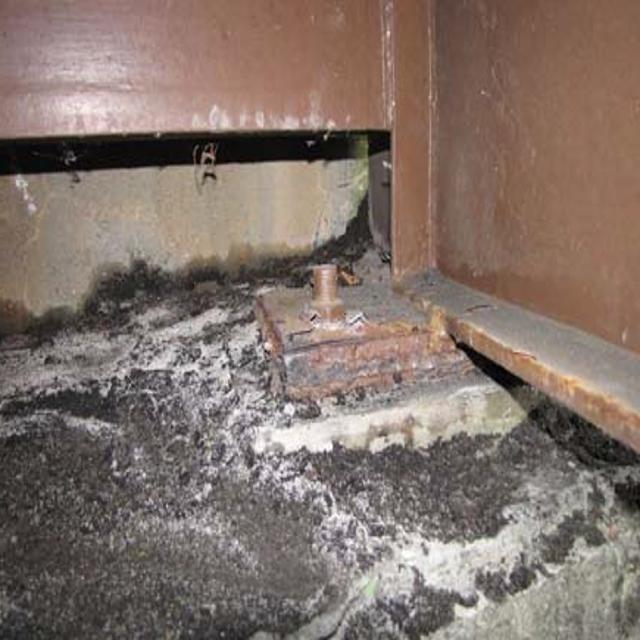leakage: (4, 213, 399, 344)
